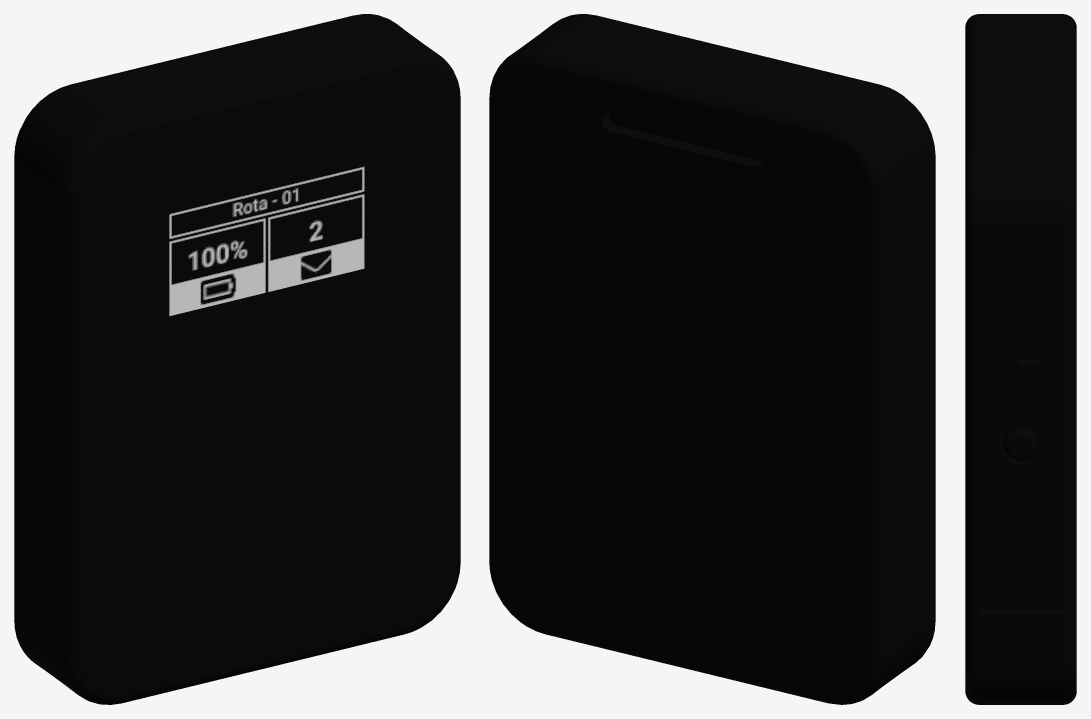
Rendered from cracha.gltf.
The picture shows the model from 3 angles, left to right: view 1: azimuth 30°, elevation 25°; view 2: azimuth 150°, elevation 25°; view 3: azimuth 270°, elevation 25°; orthographic projection. The views are drawn at different scales.
Visible parts, largest first — view 1: frente, corpo, Home, tampa; view 2: tampa, corpo, frente; view 3: corpo, frente, tampa.
Part boxes in pixels (x1,y1,x2,y2): frente: [60, 47, 460, 704]; corpo: [16, 15, 439, 693]; Home: [168, 165, 365, 316]; tampa: [14, 14, 382, 660]; tampa: [489, 47, 889, 704]; corpo: [511, 15, 933, 694]; frente: [564, 14, 935, 658]; corpo: [979, 14, 1062, 704]; frente: [965, 14, 979, 704]; tampa: [1063, 14, 1076, 704].
Bounding box in the file's own units: 3.06 × 4.3 × 0.7982.
Materials: 2 (2 with a texture image).
